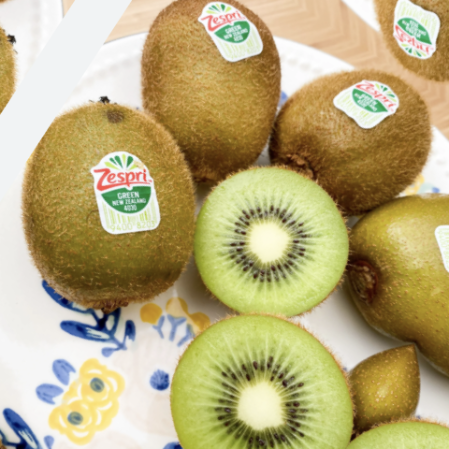kiwi: (0, 55, 272, 355), (88, 0, 332, 209), (238, 23, 449, 253)
